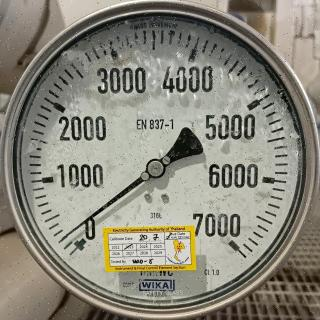gauge: (0, 0, 320, 320), (66, 226, 94, 258), (218, 227, 245, 257), (146, 158, 166, 178), (56, 230, 72, 246)
